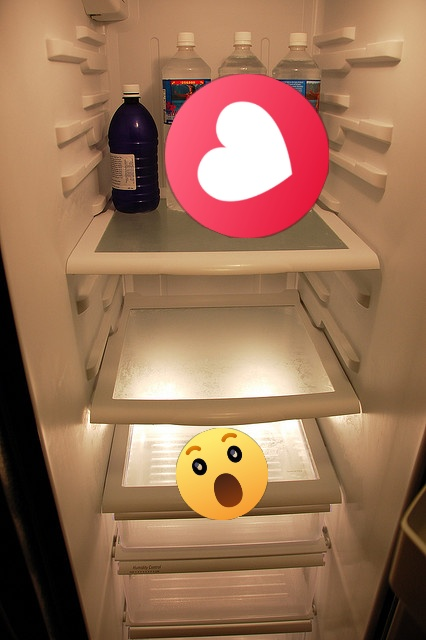love: (165, 74, 329, 238)
wow: (176, 428, 268, 520)
